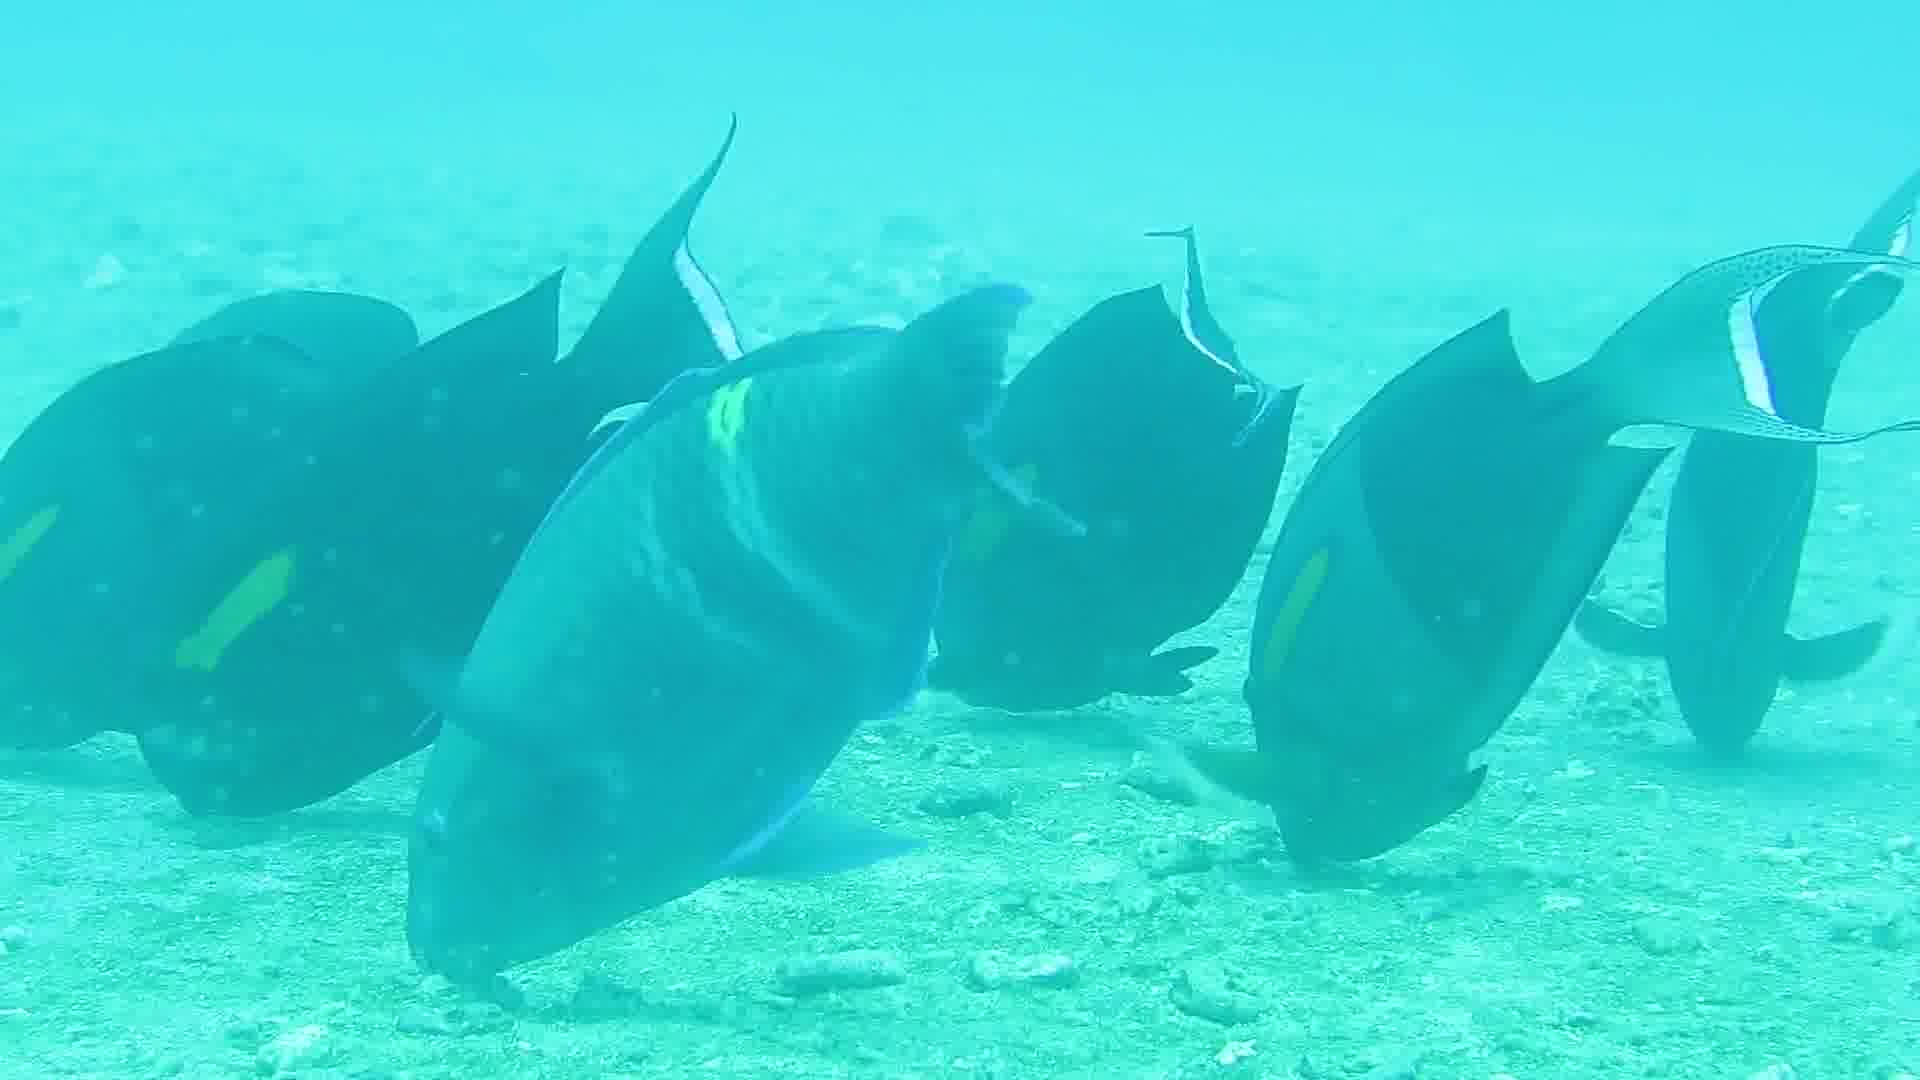Acanthurus olivaceus: (405, 269, 992, 1006), (1251, 179, 1753, 914), (1250, 177, 1750, 913), (923, 179, 1323, 835), (1629, 167, 1920, 832)
